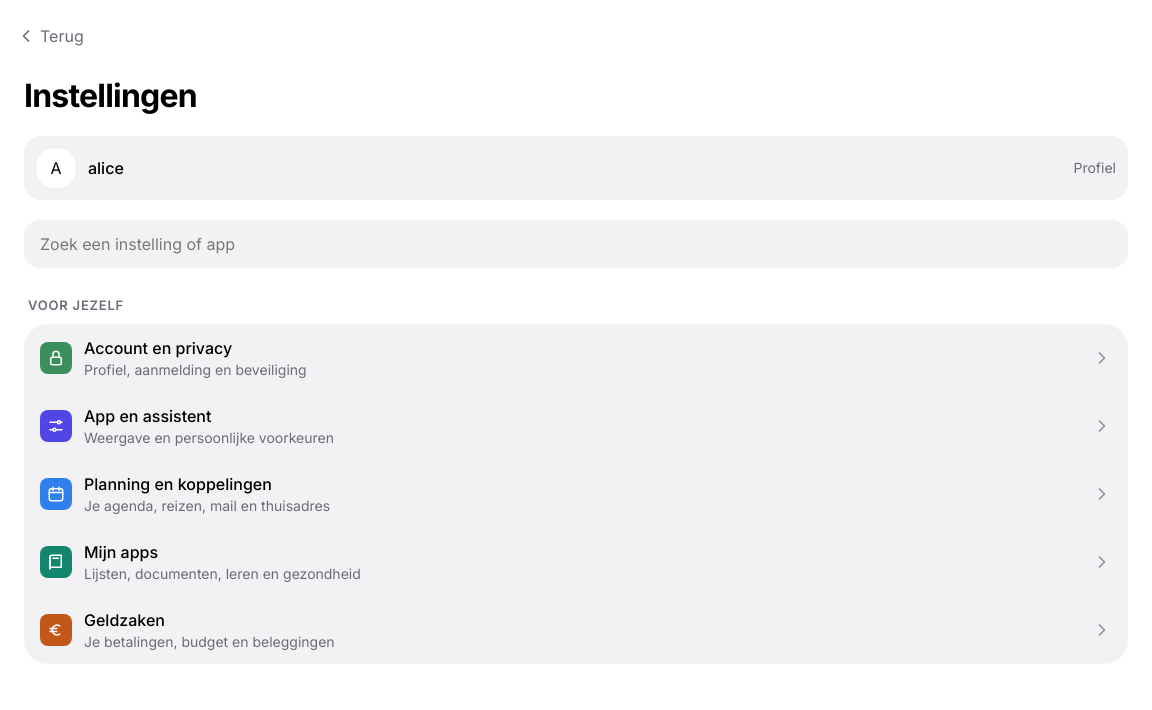
vindt verborgen functies en navigatie zonder eerst een groep te openen
The image size is (1152, 710).
In the search field: (576, 244) [24,220,1128,268], type "evenement"
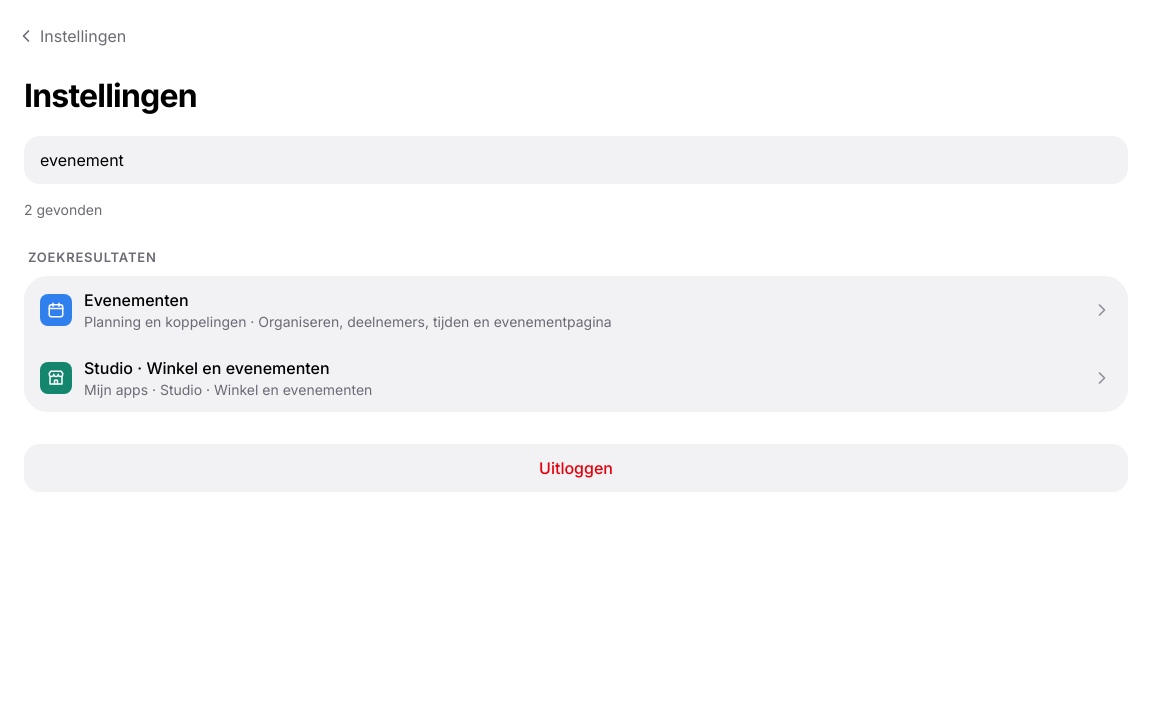
Now the text "Evenementen" is shown, box [84,290,188,310]
Replace the text in the search field with "onvindbaar-123": (576, 160) [24,136,1128,184]
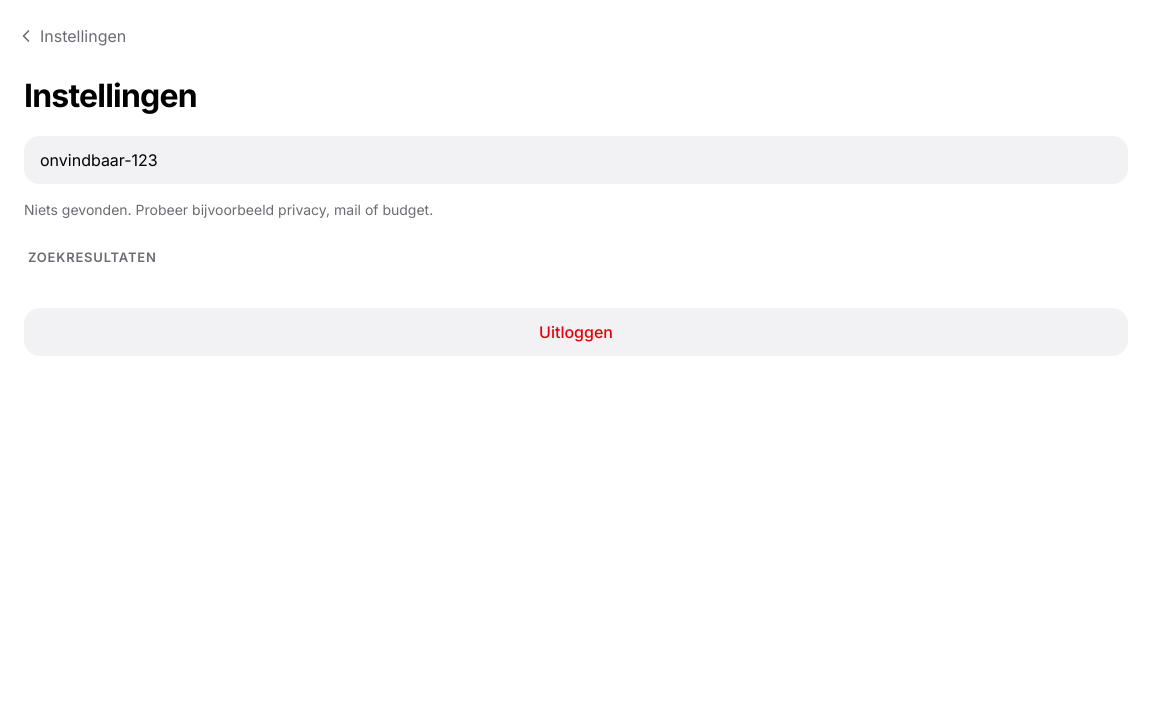
Now the message shows "Niets gevonden", box [24,201,433,218]
